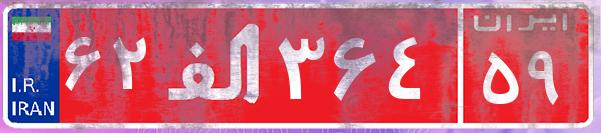2: (110, 28, 158, 105)
3: (273, 28, 330, 110)
4: (385, 28, 445, 110)
5: (475, 38, 525, 113)
6: (330, 28, 385, 110), (57, 26, 110, 107)
9: (525, 38, 570, 115)
الف: (158, 15, 273, 115)
